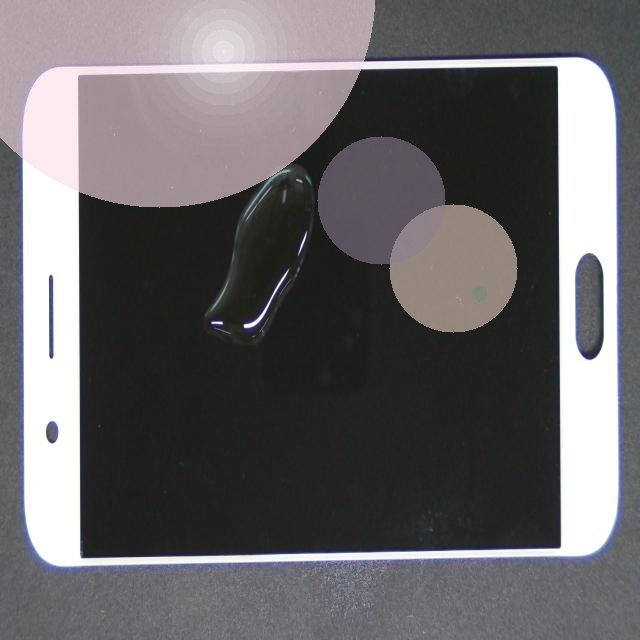oil: (155, 149, 465, 317)
